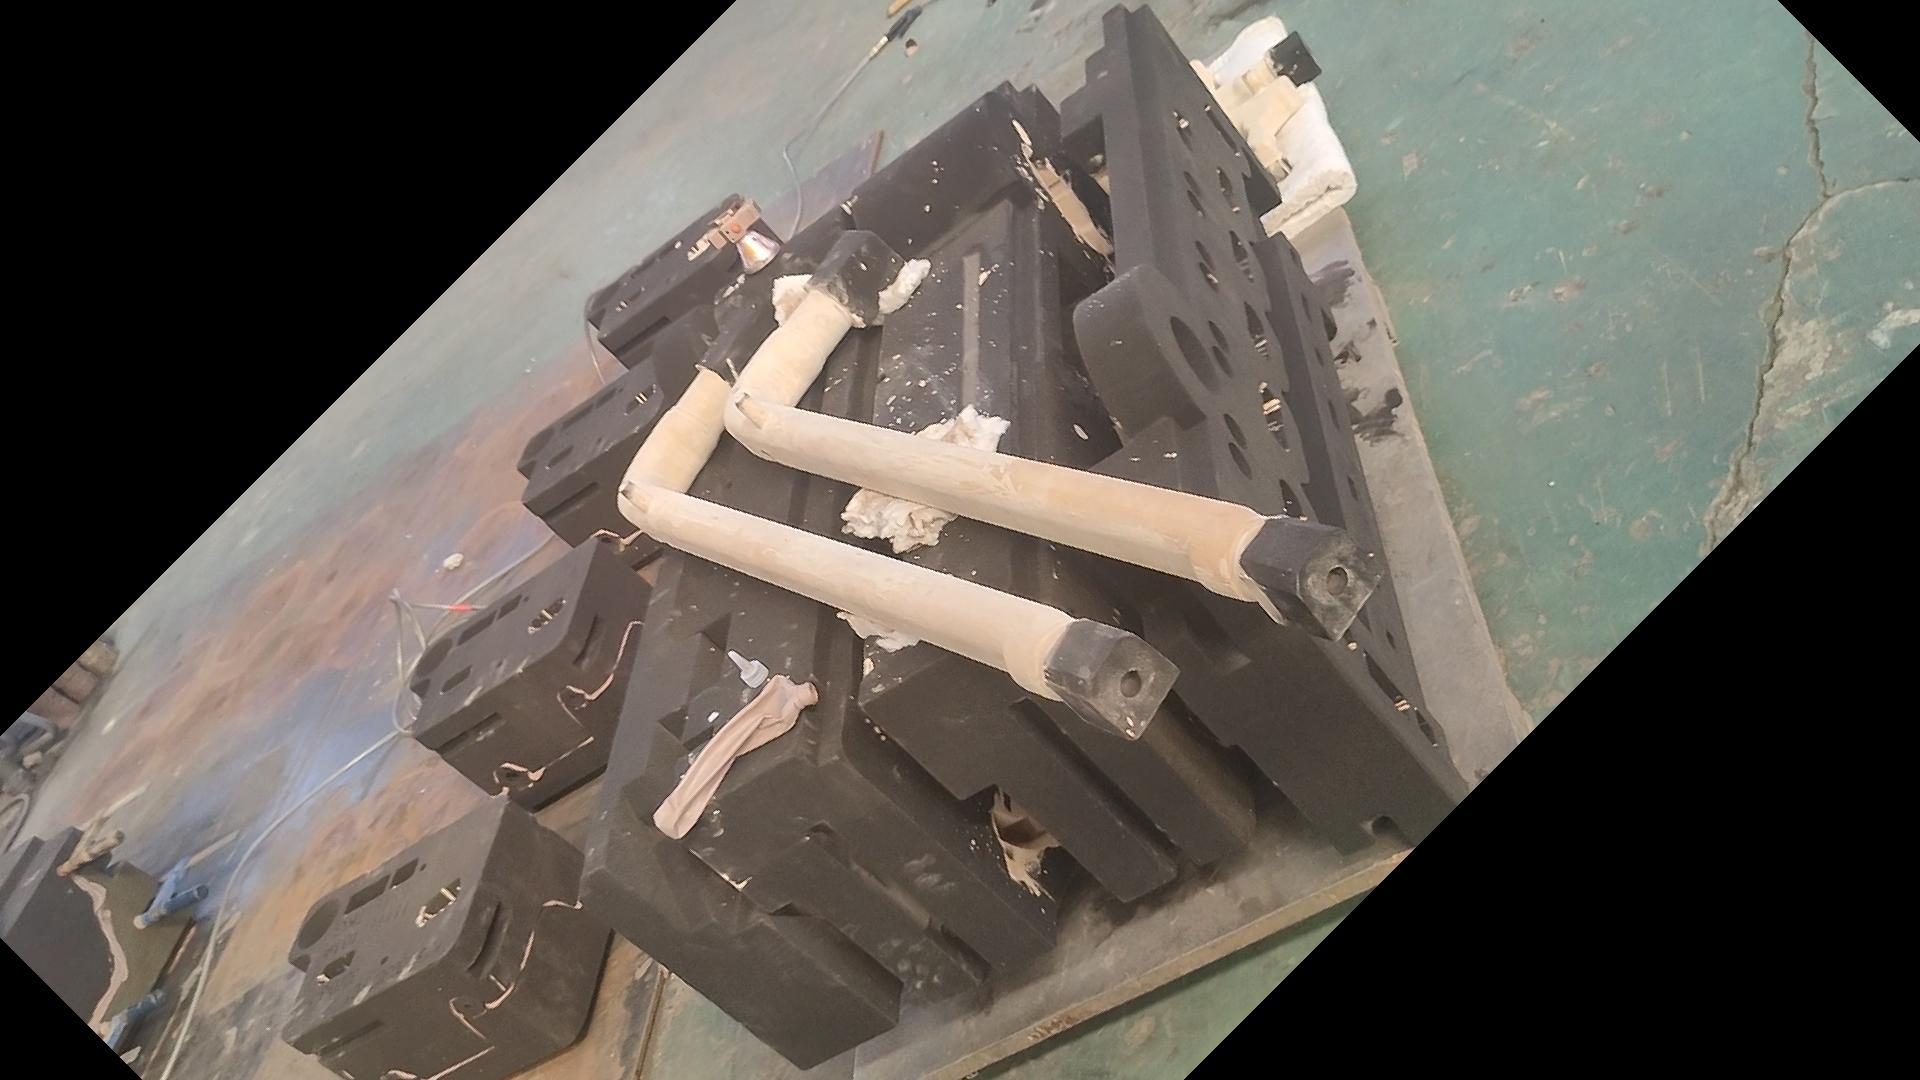pouring hole: (1168, 313, 1222, 392), (294, 898, 338, 948), (413, 636, 454, 676), (520, 426, 556, 458), (589, 281, 621, 305)
